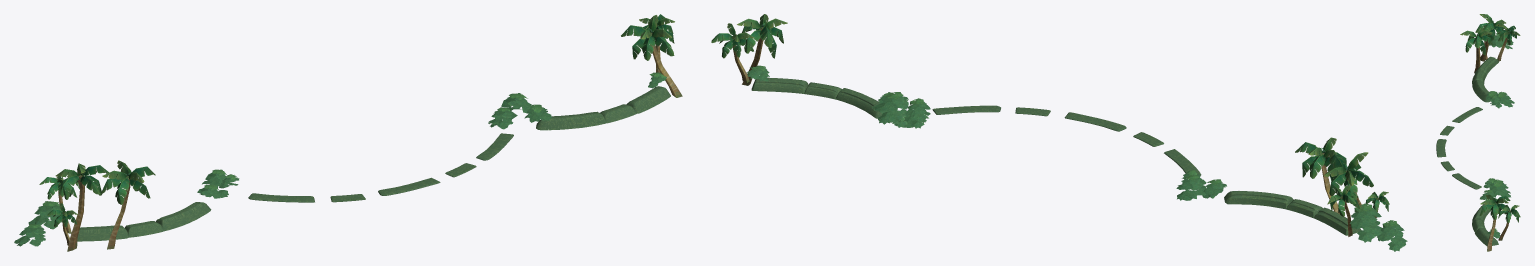
Rendered from pref_sm_4v4pointbake_WSJ_CSD_T01_lv0.fbx.
3 renders of one model, left to right at view 1: azimuth 30°, elevation 25°; view 2: azimuth 150°, elevation 25°; view 3: azimuth 270°, elevation 25°, orthographic. The views are drawn at different scales.
Visible parts, largest first — view 1: sm_4v4pointbake_WSJ_CSD_T01_a_lv0, sm_4v4pointbake_WSJ_CSD_T01_b_lv0; view 2: sm_4v4pointbake_WSJ_CSD_T01_a_lv0, sm_4v4pointbake_WSJ_CSD_T01_b_lv0; view 3: sm_4v4pointbake_WSJ_CSD_T01_a_lv0, sm_4v4pointbake_WSJ_CSD_T01_b_lv0.
Boxes of the visible parts, bbox=[...] form: sm_4v4pointbake_WSJ_CSD_T01_a_lv0: bbox=[14, 14, 682, 251]; sm_4v4pointbake_WSJ_CSD_T01_b_lv0: bbox=[77, 86, 670, 241]; sm_4v4pointbake_WSJ_CSD_T01_a_lv0: bbox=[711, 14, 1407, 251]; sm_4v4pointbake_WSJ_CSD_T01_b_lv0: bbox=[751, 77, 1361, 235]; sm_4v4pointbake_WSJ_CSD_T01_a_lv0: bbox=[1460, 14, 1520, 251]; sm_4v4pointbake_WSJ_CSD_T01_b_lv0: bbox=[1436, 56, 1498, 246].
Bounding box in the file's own units: 69.39 × 8.11 × 11.9.
